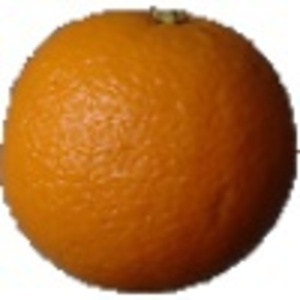laranja: (3, 3, 297, 295)
